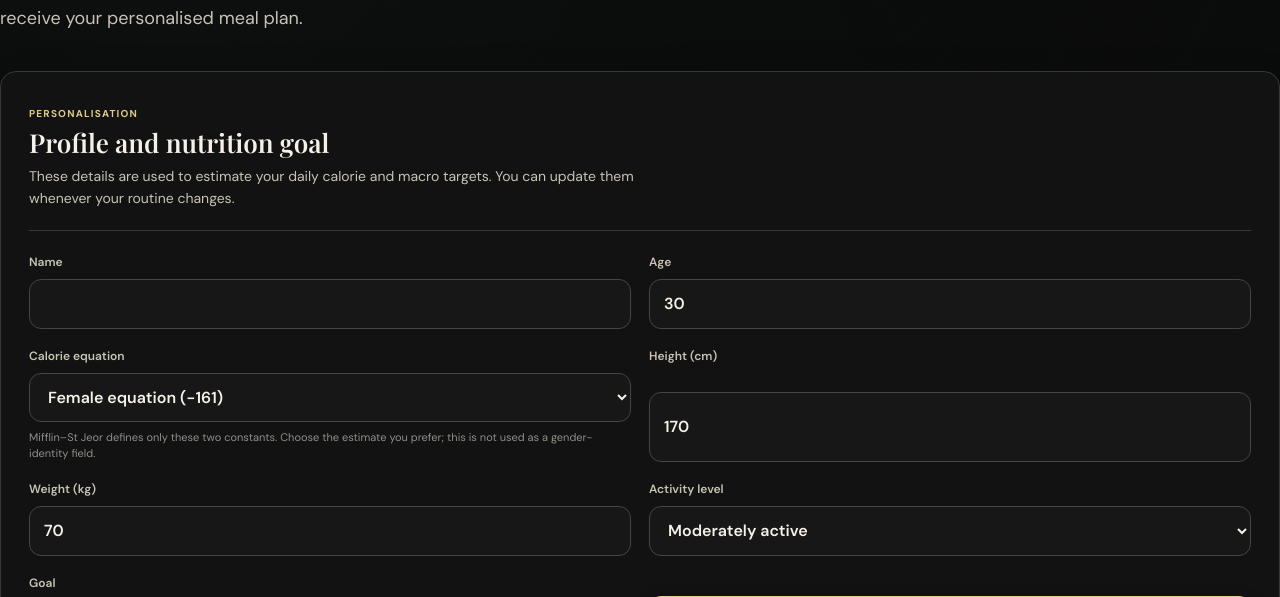
Test: MealPlannerPage guest state › allows exploring the form but requires sign-in before saving
Step 1. Type "Alex" into the field labelled "Name" → (330, 304), box x1=29 y1=279 x2=631 y2=329
(page scrolled)
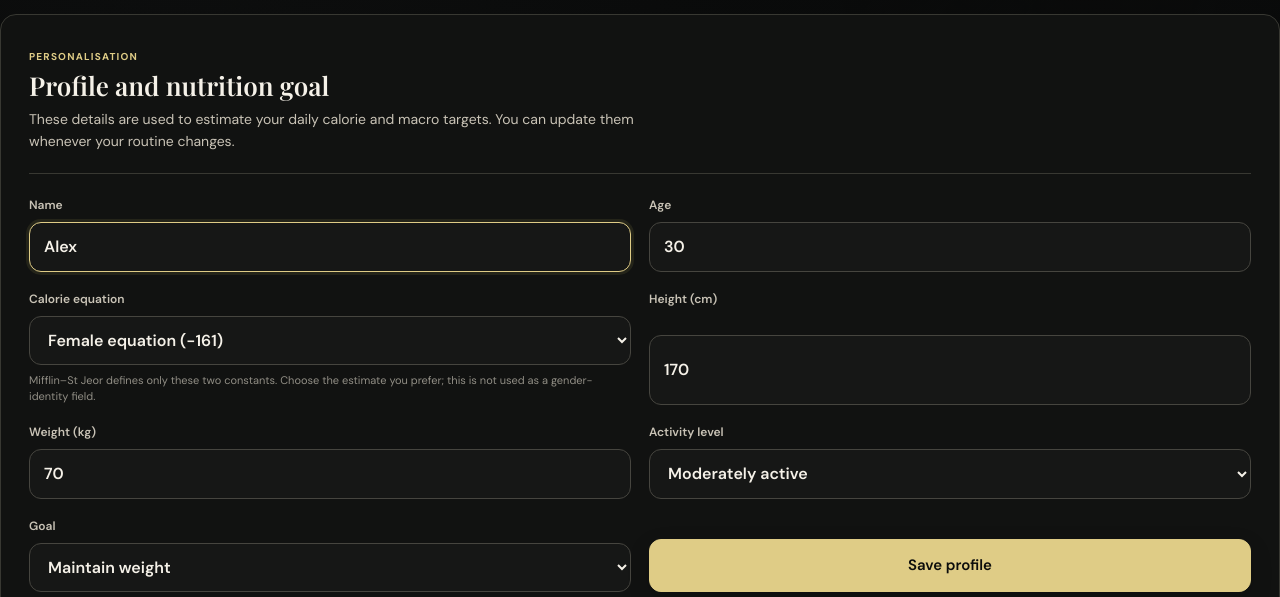
Step 2. Click the button "Save profile" → (950, 565), box x1=649 y1=539 x2=1251 y2=592
(page scrolled)
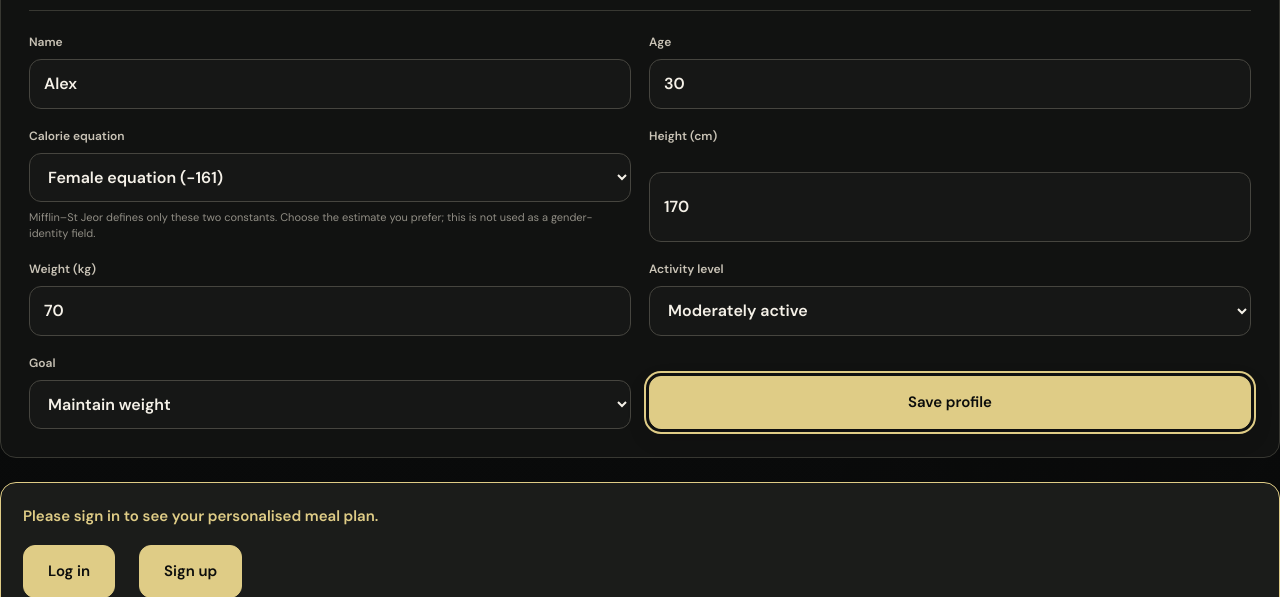
expect the message reads "Please sign in to see your personalised meal plan.": met, box x1=23 y1=506 x2=378 y2=526
